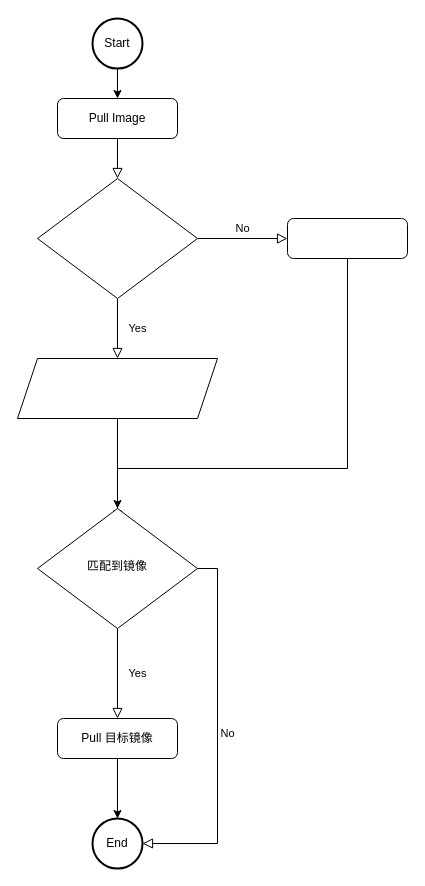
Image size: 425x886. Some labels were removed from this diagram. Here are the shapes that lost their labels. From the top down, the box of each, then its label:
(36, 178, 198, 298): ECR 返回 是否支持Multi-Arch 的Manifest List对象
(286, 218, 408, 258): Old Case
(16, 358, 218, 418): Docker根据客户端运行环境， 遍历查找符合CPU架构和OS的 Manifest对象
